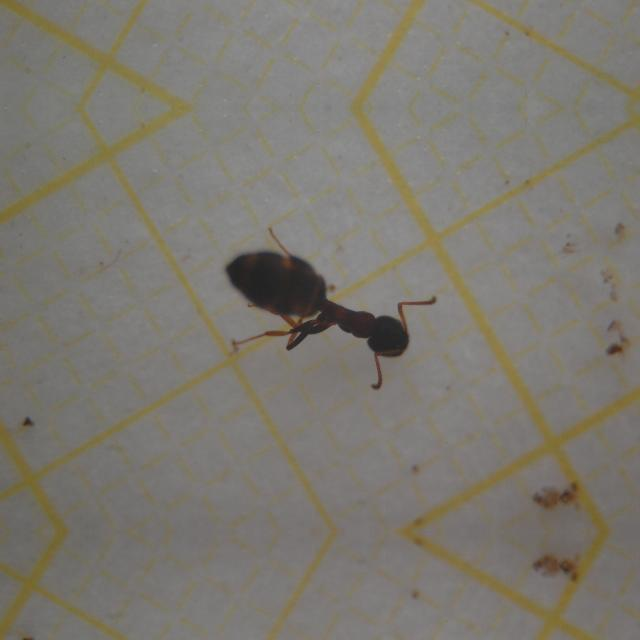Dolichoderus: (192, 212, 458, 378)
